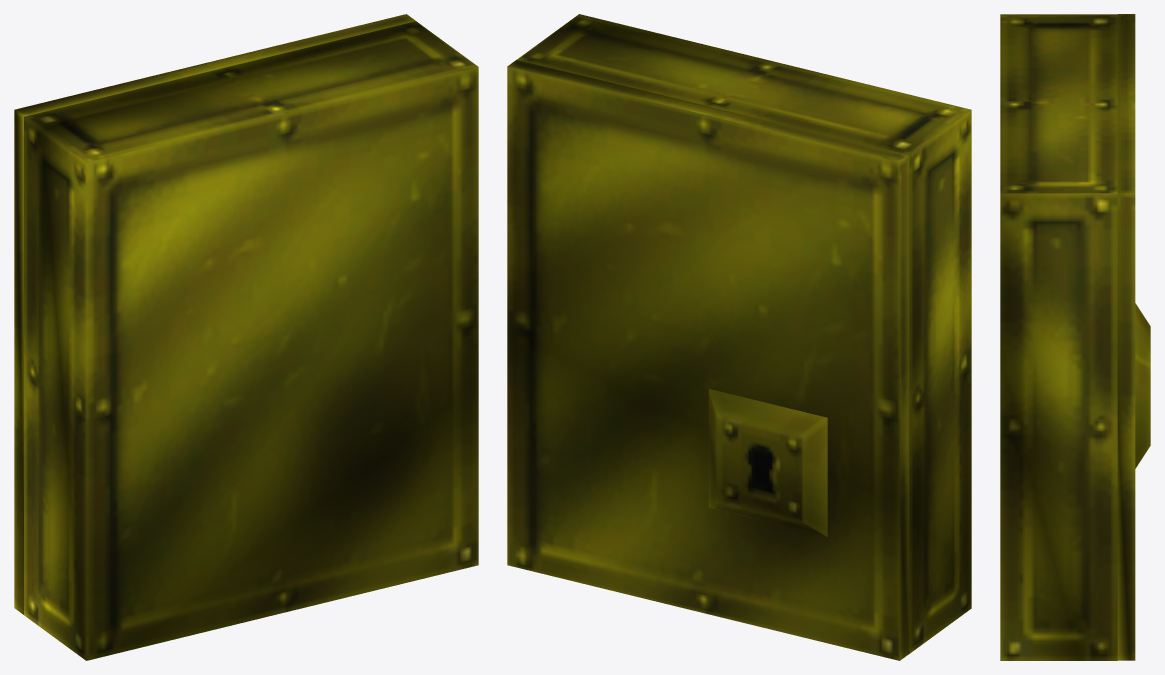
Rendered from INST_SWORDLIGHT_LOCKBOX_GOLD.fbx.
3 views of the same model, side by side, from view 1: azimuth 30°, elevation 25°; view 2: azimuth 150°, elevation 25°; view 3: azimuth 270°, elevation 25° (orthographic). The views are drawn at different scales.
Visible parts, largest first — view 1: INST_SWORDLIGHT_LOCKBOX_GOLD; view 2: INST_SWORDLIGHT_LOCKBOX_GOLD; view 3: INST_SWORDLIGHT_LOCKBOX_GOLD.
Part boxes in pixels (x1,y1,x2,y2): INST_SWORDLIGHT_LOCKBOX_GOLD: [14, 14, 478, 660]; INST_SWORDLIGHT_LOCKBOX_GOLD: [507, 14, 971, 660]; INST_SWORDLIGHT_LOCKBOX_GOLD: [1000, 14, 1150, 660].
Bounding box in the file's own units: 7001 × 8503 × 2476.
3 materials, 3 textured.
